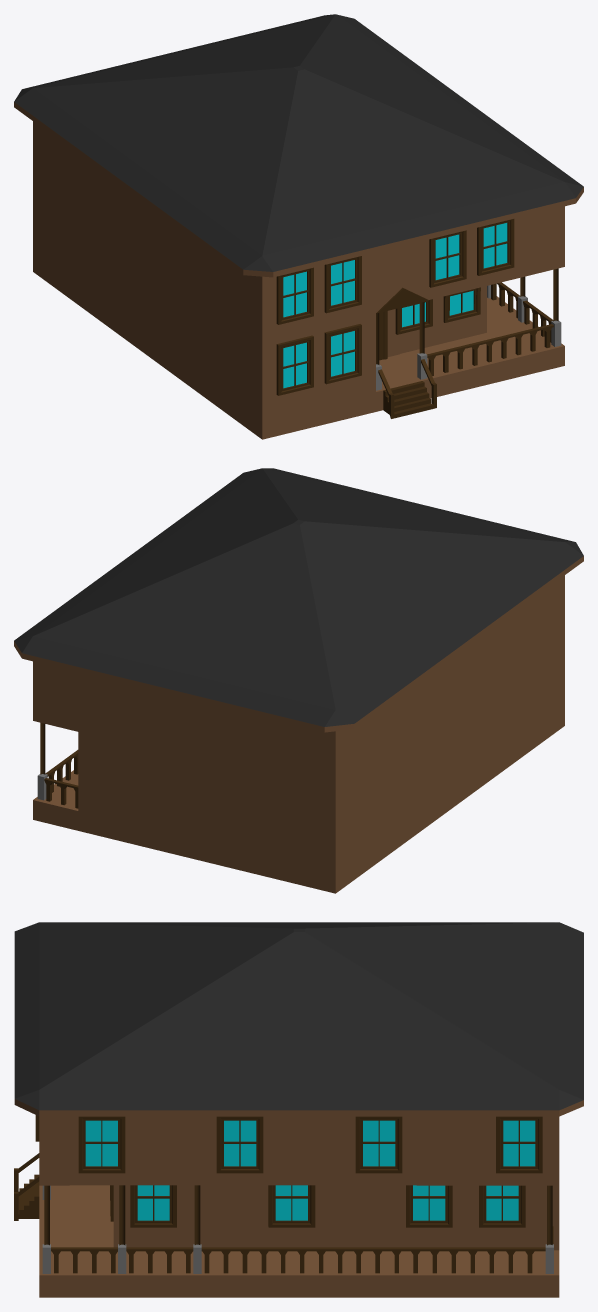
Rendered from house.fbx.
3 renders of one model, top to bottom at view 1: azimuth 30°, elevation 25°; view 2: azimuth 150°, elevation 25°; view 3: azimuth 270°, elevation 25°, orthographic. The views are drawn at different scales.
Visible parts, largest first — view 1: Plane, Plane.002, Window Frame.001, Window Frame, Window Frame.011, Window Frame.013, Window Frame.005, Window Frame.007, Glass?.013, Glass?.011, Glass?, Glass?.007 (+5 smaller); view 2: Plane; view 3: Plane, Window Frame.012, Window Frame.014, Window Frame.016, Window Frame.010, Glass?.012, Glass?.016, Glass?.014, Glass?.010, Glass?.006, Glass?.008, Window Frame.006 (+6 smaller).
Part boxes in pixels (box(x1,y1,x2,y2)): Plane: box(14, 14, 583, 439); Plane.002: box(383, 381, 433, 418); Window Frame.001: box(276, 335, 313, 395); Window Frame: box(324, 324, 361, 384); Window Frame.011: box(477, 219, 514, 275); Window Frame.013: box(429, 230, 466, 287); Window Frame.005: box(276, 267, 313, 324); Window Frame.007: box(324, 256, 361, 313); Glass?.013: box(435, 234, 459, 279); Glass?.011: box(483, 223, 507, 268); Glass?: box(331, 331, 354, 376); Glass?.007: box(331, 260, 354, 305); Plane: box(14, 468, 583, 893); Plane: box(14, 922, 583, 1297); Window Frame.012: box(355, 1116, 402, 1173); Window Frame.014: box(216, 1116, 263, 1173); Window Frame.016: box(78, 1116, 125, 1173); Window Frame.010: box(496, 1116, 542, 1173); Glass?.012: box(363, 1120, 395, 1166); Glass?.016: box(85, 1120, 117, 1166); Glass?.014: box(224, 1120, 256, 1166); Glass?.010: box(503, 1120, 535, 1166); Glass?.006: box(275, 1185, 307, 1220); Glass?.008: box(413, 1185, 445, 1220); Window Frame.006: box(268, 1185, 315, 1227).
Size of the model in its own units: 900 by 633 by 1151.
